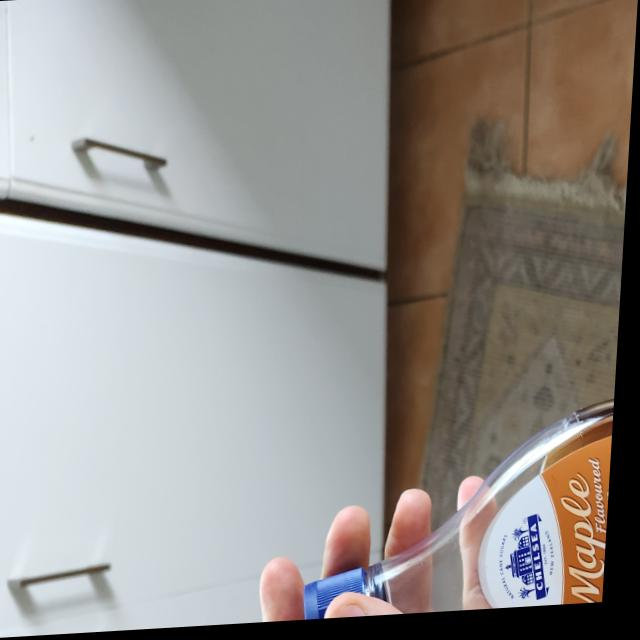syrup: (306, 401, 620, 624)
